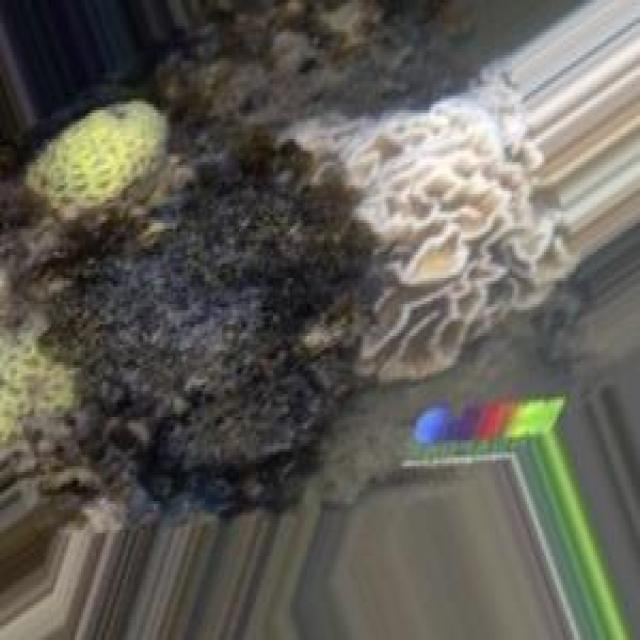Bleached: (87, 127, 375, 513), (294, 77, 546, 383), (27, 101, 169, 218)
